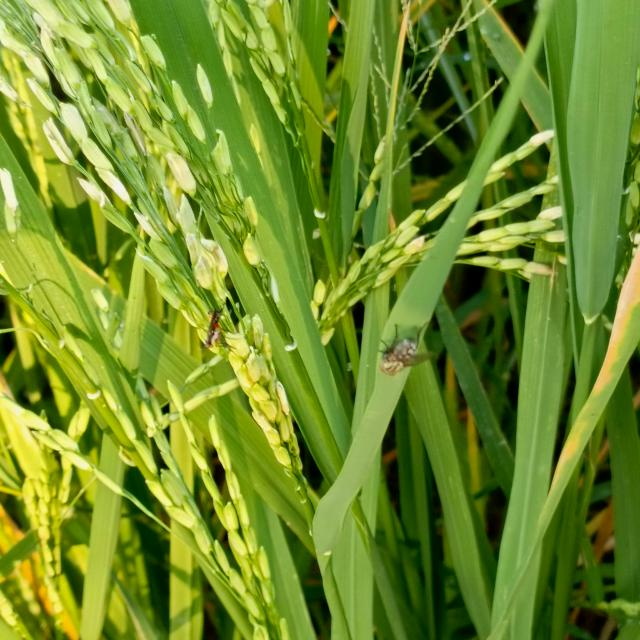Brown spot: (550, 240, 639, 502), (387, 0, 412, 105)
Leaf scald: (372, 314, 442, 383), (192, 298, 240, 362)
